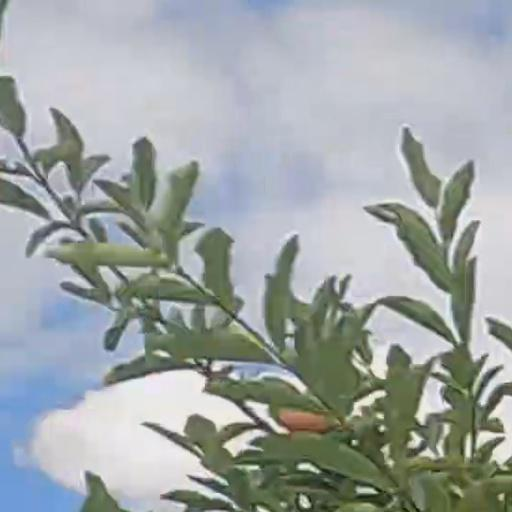acerola_vermelha: (279, 410, 328, 430)
